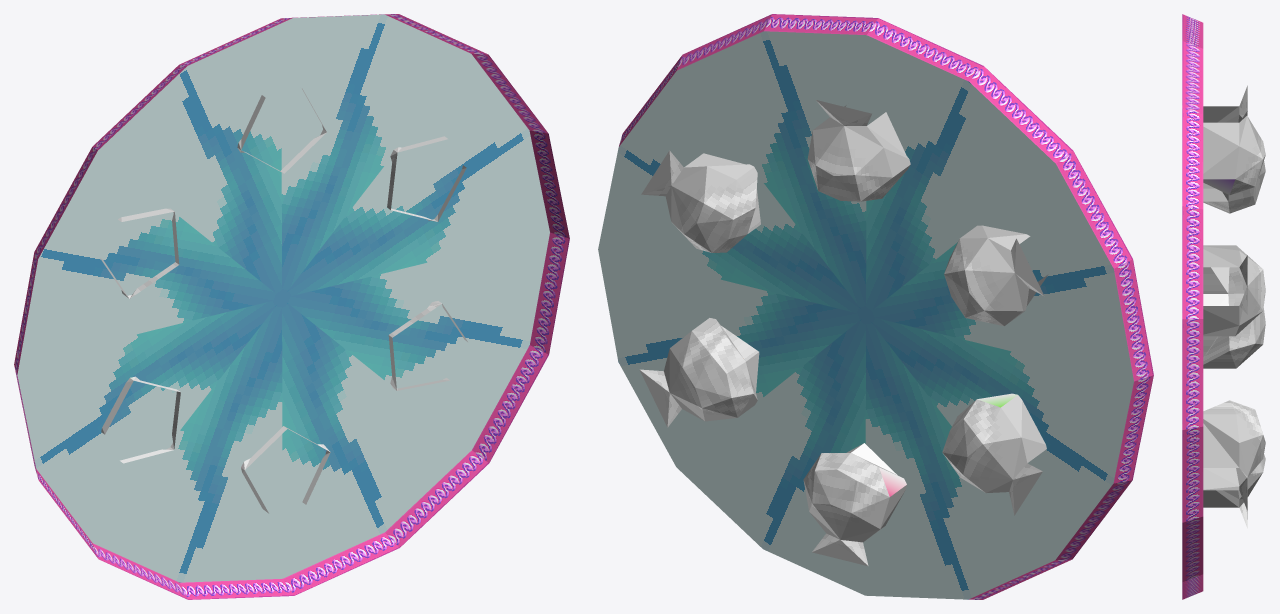
Rendered from ShellCup_Low_Poly_KCL_Version.dae.
3 renders of one model, left to right at view 1: azimuth 30°, elevation 25°; view 2: azimuth 150°, elevation 25°; view 3: azimuth 270°, elevation 25°, orthographic. The views are drawn at different scales.
Parts seen in each view (by area): view 1: n1b1_005; view 2: n1b1_005; view 3: n1b1_005.
Boxes of the visible parts, x1=… form: n1b1_005: x1=14, y1=14, x2=569, y2=599; n1b1_005: x1=598, y1=14, x2=1153, y2=599; n1b1_005: x1=1182, y1=14, x2=1265, y2=599.
Size of the model in its own units: 9.63 by 1.37 by 9.63.
4 materials, 3 textured.
